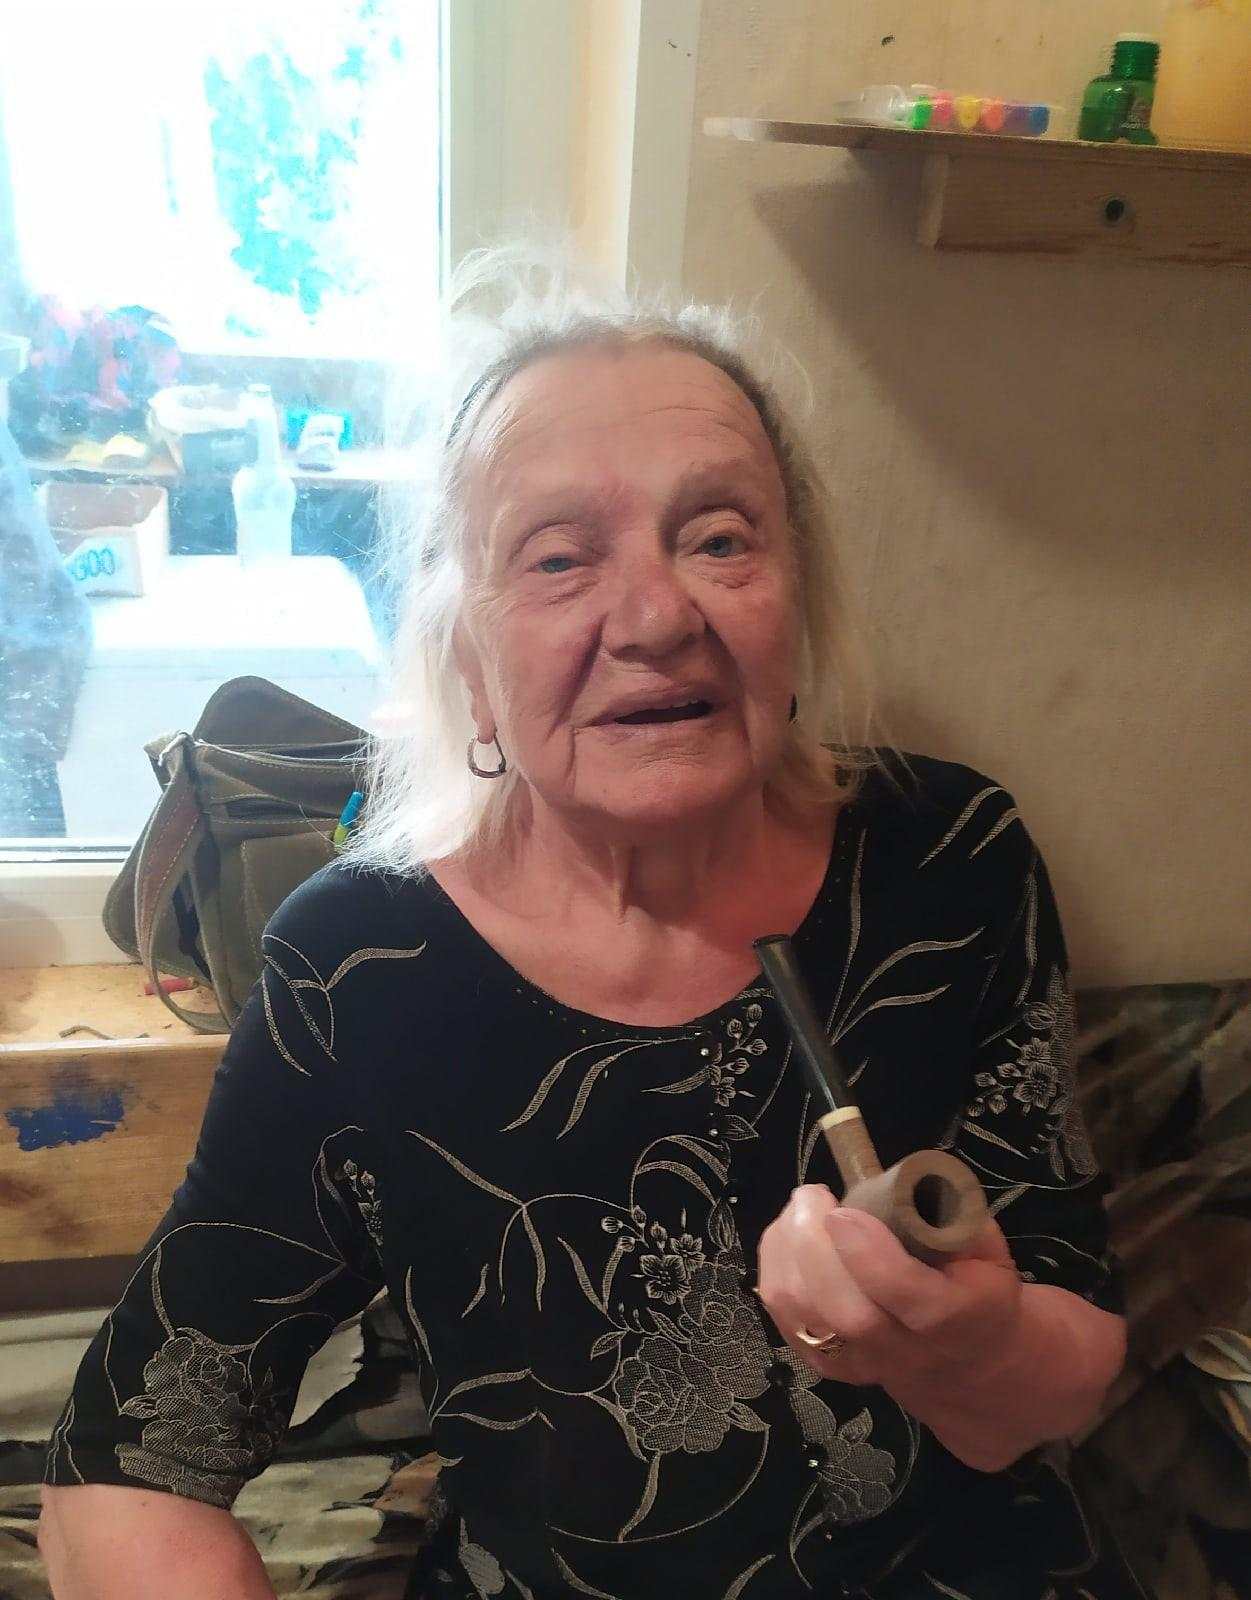trubka: (752, 932, 990, 1268)
